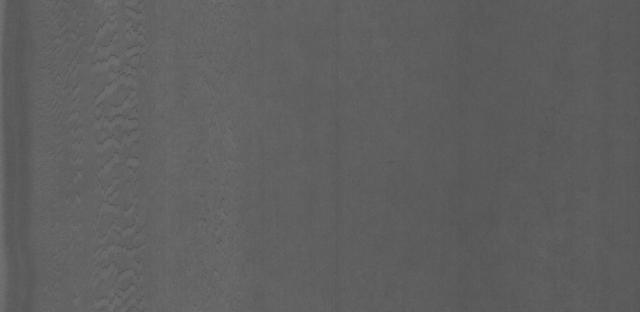silk_spot: (81, 7, 156, 312)
